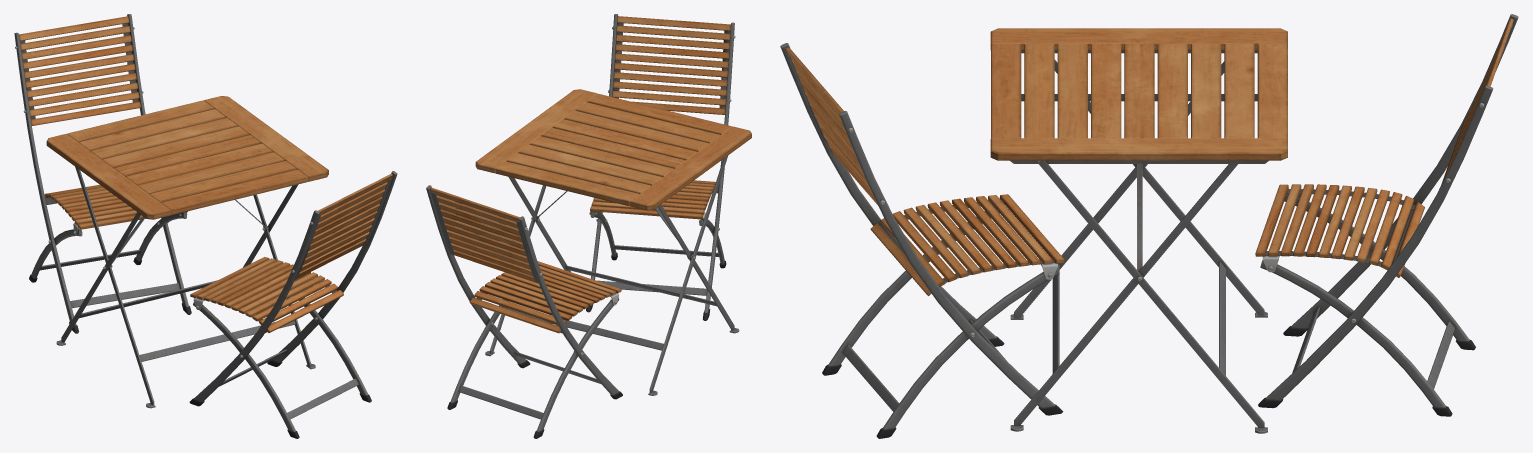
The model's file is outdoor_table_chair_set_01-lod0.glb.
The picture shows the model from 3 angles, left to right: view 1: azimuth 30°, elevation 25°; view 2: azimuth 150°, elevation 25°; view 3: azimuth 270°, elevation 25°; orthographic projection. The views are drawn at different scales.
Visible parts, largest first — view 1: outdoor_table_chair_set_01_chair_01, outdoor_table_chair_set_01_table; view 2: outdoor_table_chair_set_01_chair_01, outdoor_table_chair_set_01_table; view 3: outdoor_table_chair_set_01_table, outdoor_table_chair_set_01_chair_01.
Part boxes in pixels (box(x1,y1,x2,y2)): outdoor_table_chair_set_01_chair_01: box(14, 14, 397, 438); outdoor_table_chair_set_01_table: box(46, 96, 328, 408); outdoor_table_chair_set_01_chair_01: box(426, 14, 735, 438); outdoor_table_chair_set_01_table: box(475, 89, 751, 395); outdoor_table_chair_set_01_table: box(990, 28, 1287, 433); outdoor_table_chair_set_01_chair_01: box(780, 14, 1518, 438).
Size of the model in its own units: 0.7417 by 0.8586 by 1.72.
Materials: 2 (2 with a texture image).
